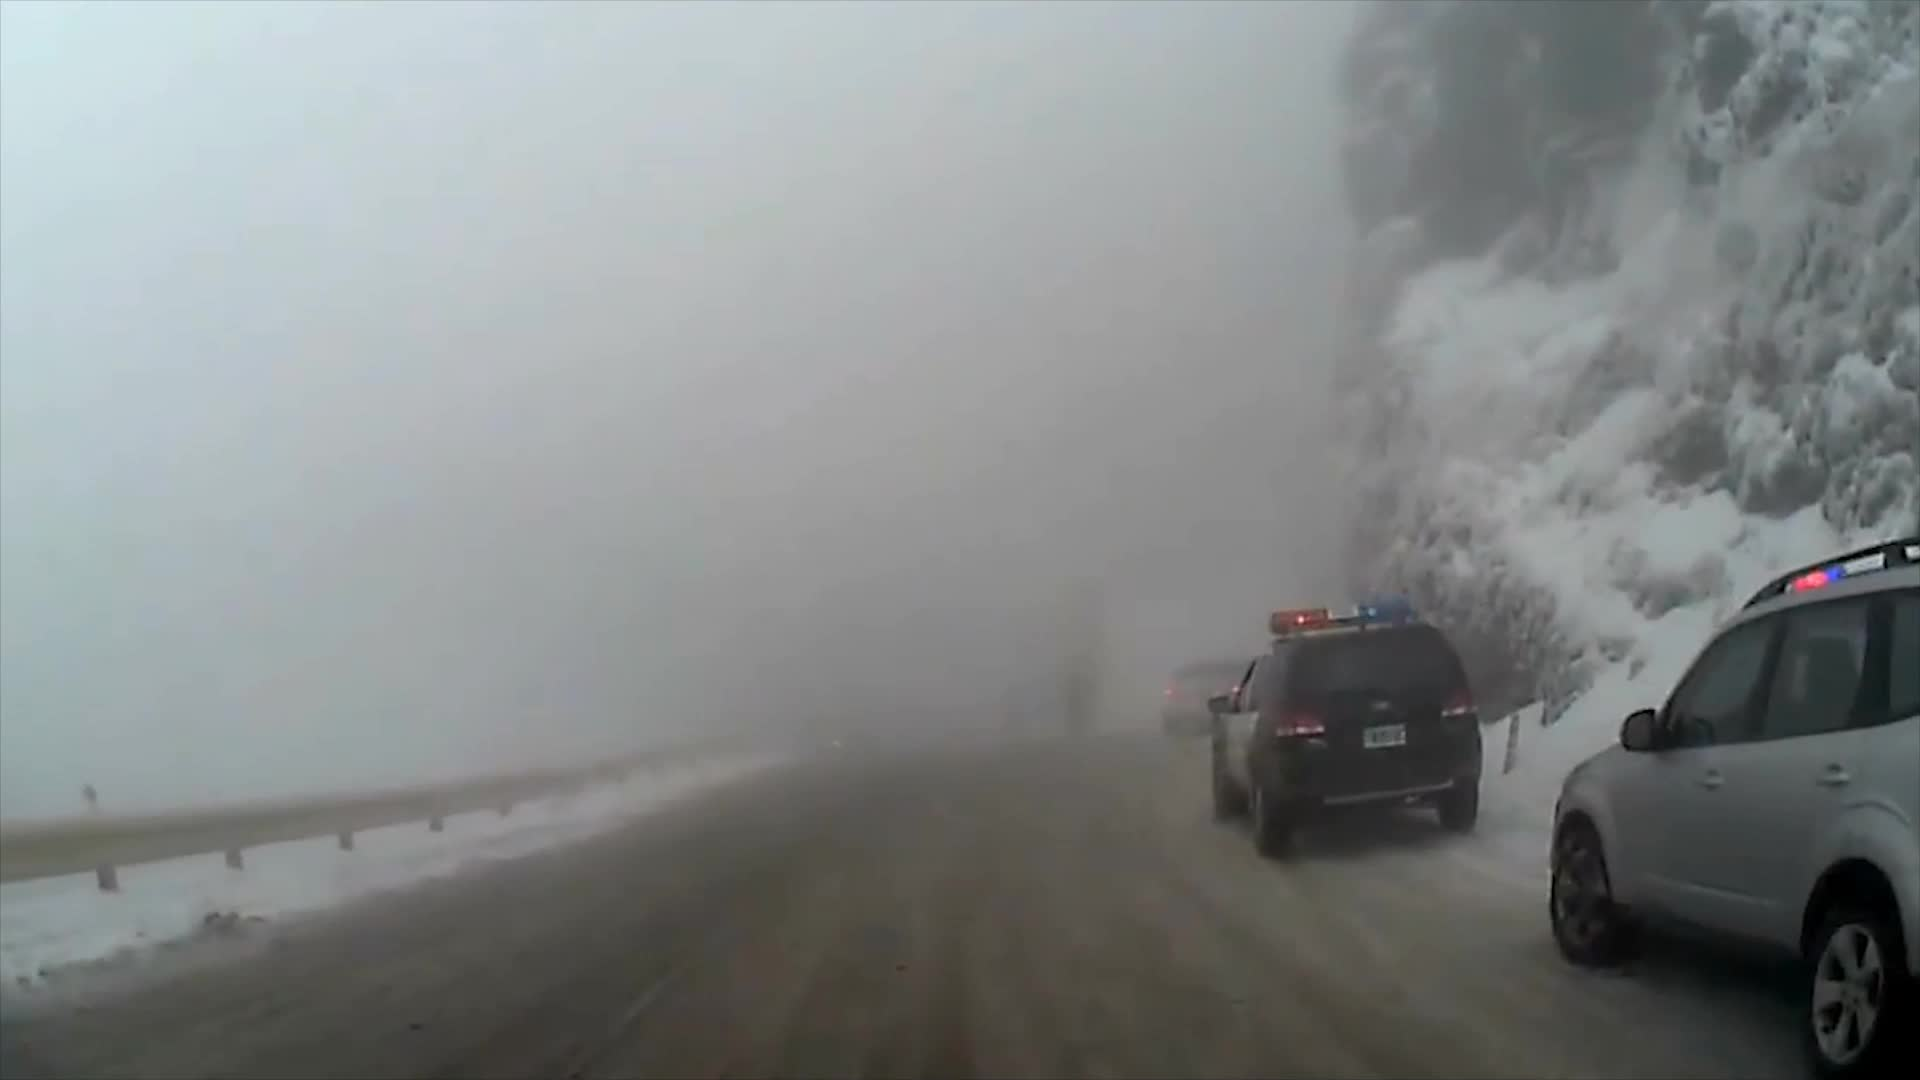vehicle: (1543, 531, 1920, 1080), (1203, 597, 1484, 858)
